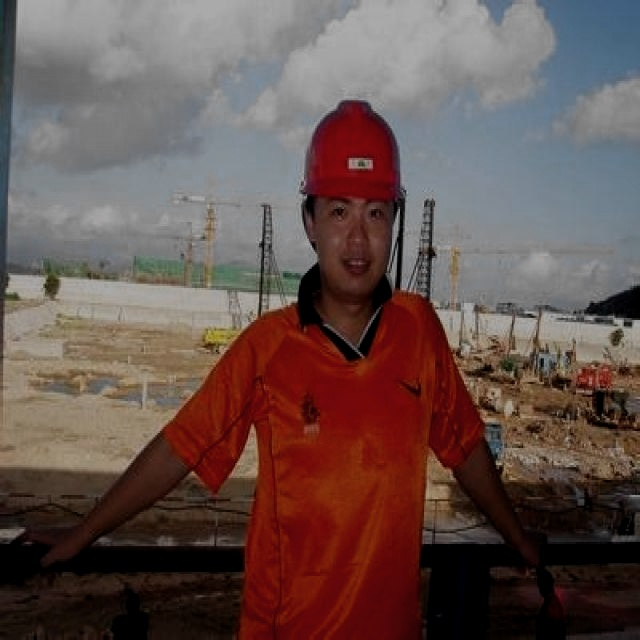Con_Casco: (301, 97, 403, 275)
Sin_Chaleco: (238, 296, 450, 633)
